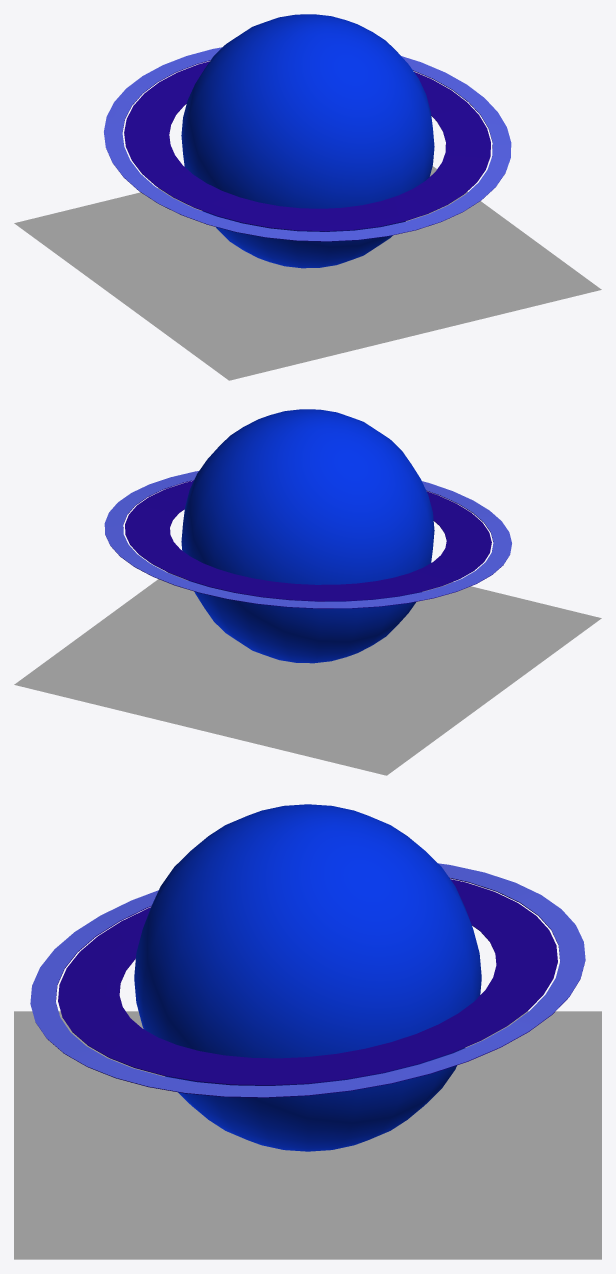
The model's file is planet3_blue.fbx.
The picture shows the model from 3 angles, top to bottom: view 1: azimuth 30°, elevation 25°; view 2: azimuth 150°, elevation 25°; view 3: azimuth 270°, elevation 25°; orthographic projection. The views are drawn at different scales.
Parts seen in each view (by area): view 1: five_five1, pSphere14, cartoonPlanets:SaturnRing; view 2: five_five1, pSphere14, cartoonPlanets:SaturnRing; view 3: five_five1, pSphere14, cartoonPlanets:SaturnRing.
Part boxes in pixels (bbox=[...]): five_five1: bbox=[14, 166, 601, 380]; pSphere14: bbox=[181, 14, 434, 268]; cartoonPlanets:SaturnRing: bbox=[104, 47, 511, 241]; five_five1: bbox=[14, 572, 601, 775]; pSphere14: bbox=[181, 409, 434, 663]; cartoonPlanets:SaturnRing: bbox=[104, 471, 511, 608]; five_five1: bbox=[14, 1011, 601, 1259]; pSphere14: bbox=[134, 804, 481, 1151]; cartoonPlanets:SaturnRing: bbox=[30, 863, 585, 1097].
Bounding box in the file's own units: 5 × 2.96 × 5.
